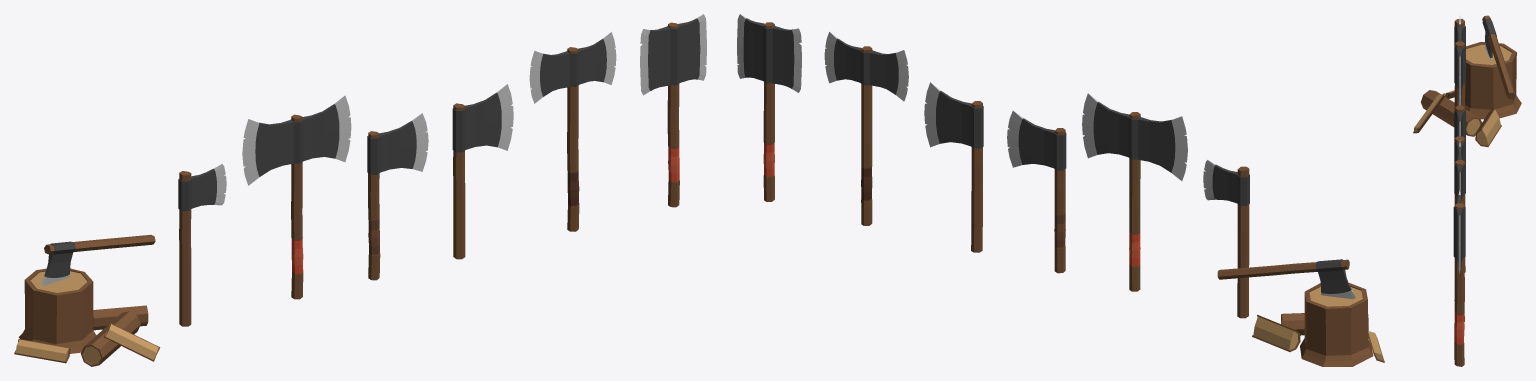
Rendered from Axes.fbx.
3 renders of one model, left to right at view 1: azimuth 30°, elevation 25°; view 2: azimuth 150°, elevation 25°; view 3: azimuth 270°, elevation 25°, orthographic. The views are drawn at different scales.
Visible parts, largest first — view 1: Circle.016, Plane.006, Plane.004, Circle.003, Plane.005, Plane.002, Plane.003, Plane.007, Circle, Circle.004, Circle.002, Circle.001; view 2: Circle.016, Plane.006, Plane.004, Circle.003, Plane.005, Plane.002, Plane.003, Plane.007, Circle.001; view 3: Circle.003, Plane.006, Circle, Plane.007, Circle.016, Circle.001, Plane.004, Plane.002, Circle.004, Plane.005, Plane.003.
Part boxes in pixels (x1,y1,x2,y2): Circle.016: (242,95,351,299); Plane.006: (640,14,706,207); Plane.004: (529,32,616,231); Circle.003: (18,268,96,353); Plane.005: (452,84,513,259); Plane.002: (367,113,428,280); Plane.003: (178,164,226,326); Plane.007: (41,234,155,285); Circle: (80,311,140,366); Circle.004: (104,323,160,361); Circle.002: (14,339,70,363); Circle.001: (93,305,148,330); Circle.016: (1082,93,1187,291); Plane.006: (737,14,801,201); Plane.004: (824,32,908,225); Circle.003: (1300,283,1373,366); Plane.005: (924,82,983,252); Plane.002: (1007,111,1066,273); Plane.003: (1203,160,1249,318); Plane.007: (1217,259,1355,299); Circle.001: (1252,315,1300,351); Circle.003: (1465,42,1521,119); Plane.006: (1453,190,1465,366); Circle: (1420,90,1481,136); Plane.007: (1482,15,1515,99); Circle.016: (1454,15,1465,107); Circle.001: (1475,108,1501,146); Plane.004: (1454,140,1465,321); Plane.002: (1454,105,1465,202); Circle.004: (1413,93,1444,133); Plane.005: (1454,136,1465,272); Plane.003: (1454,18,1465,109).
Size of the model in its own units: 11868 by 3238 by 1861.
6 materials, 6 textured.
